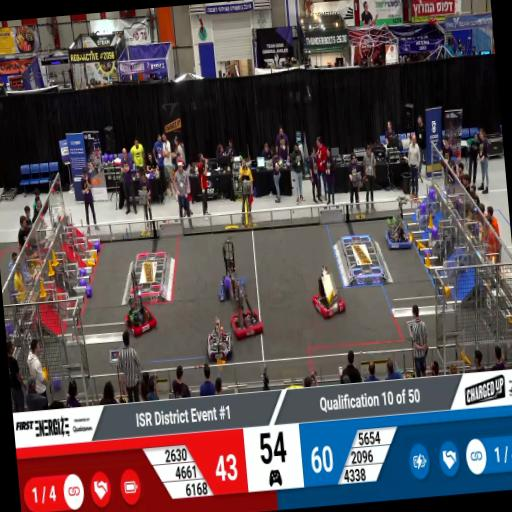robot: (309, 277, 348, 324), (122, 292, 158, 340), (213, 262, 249, 308), (225, 302, 265, 342), (204, 322, 235, 363), (382, 217, 414, 252)
